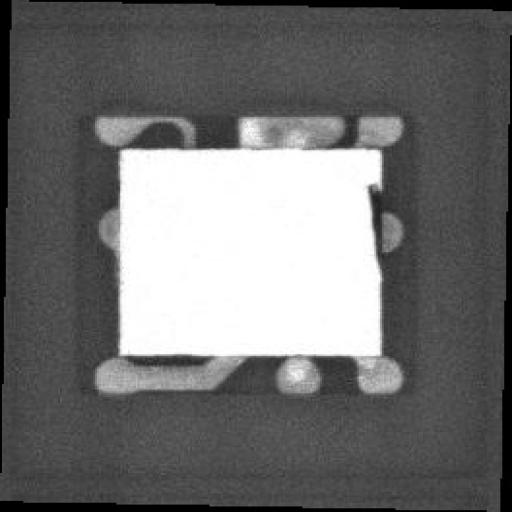DIE_BROKEN: (365, 180, 380, 274)
